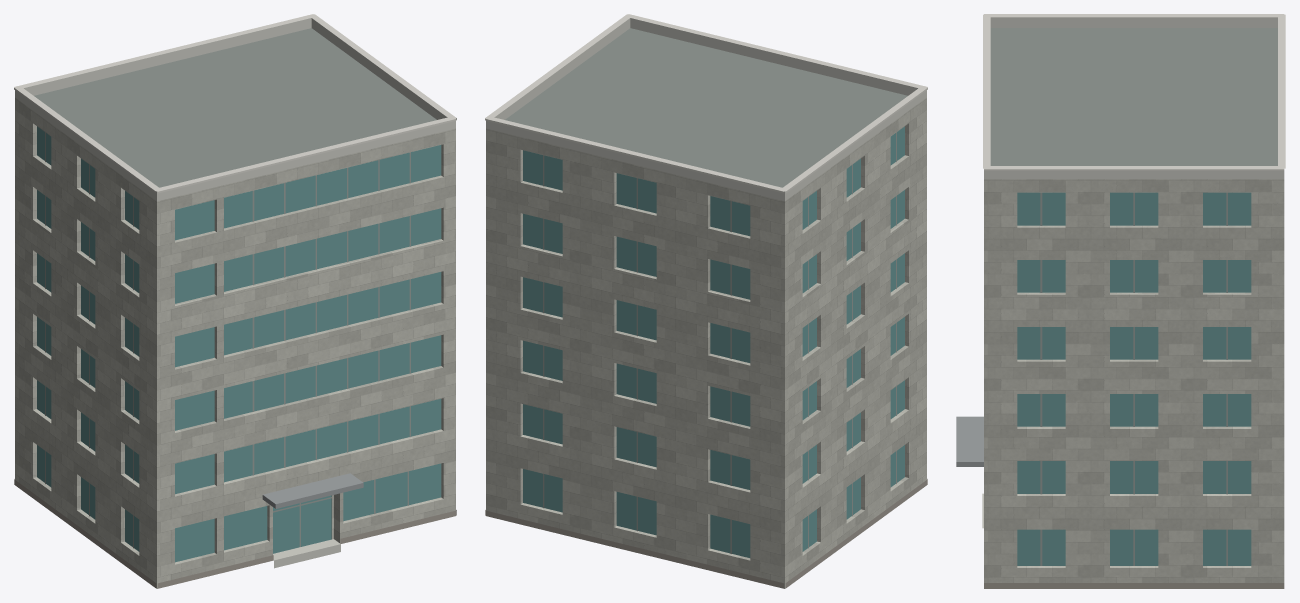
The picture shows the model from 3 angles, left to right: view 1: azimuth 30°, elevation 25°; view 2: azimuth 150°, elevation 25°; view 3: azimuth 270°, elevation 25°; orthographic projection. The views are drawn at different scales.
Visible parts, largest first — view 1: areum__wall, areum__glass, areum__roof, areum__parapet, areum__trim, areum__frame, areum__base, areum__canopy, areum__entranceThreshold_0; view 2: areum__wall, areum__roof, areum__glass, areum__parapet, areum__trim, areum__base, areum__frame; view 3: areum__wall, areum__roof, areum__glass, areum__parapet, areum__trim, areum__base, areum__canopy, areum__frame.
Part boxes in pixels (box(x1,y1,x2,y2)): areum__wall: box(15, 97, 455, 588); areum__glass: box(37, 126, 441, 562); areum__roof: box(34, 28, 436, 588); areum__parapet: box(15, 18, 455, 201); areum__trim: box(14, 14, 456, 193); areum__frame: box(45, 132, 410, 548); areum__base: box(14, 479, 456, 588); areum__canopy: box(262, 473, 363, 508); areum__entranceThreshold_0: box(273, 539, 340, 568); areum__wall: box(486, 97, 926, 588); areum__roof: box(505, 28, 907, 588); areum__glass: box(523, 126, 904, 557); areum__parapet: box(486, 18, 926, 201); areum__trim: box(485, 14, 927, 193); areum__base: box(485, 479, 927, 588); areum__frame: box(543, 132, 896, 553); areum__wall: box(984, 179, 1284, 582); areum__roof: box(990, 28, 1277, 165); areum__glass: box(1017, 192, 1251, 565); areum__parapet: box(984, 17, 1284, 179); areum__trim: box(983, 14, 1285, 170); areum__base: box(984, 583, 1284, 588); areum__canopy: box(956, 416, 983, 466); areum__frame: box(1040, 192, 1227, 565).
Size of the model in its own units: 17.12 by 22 by 15.36.
Materials: 10 (1 with a texture image).
